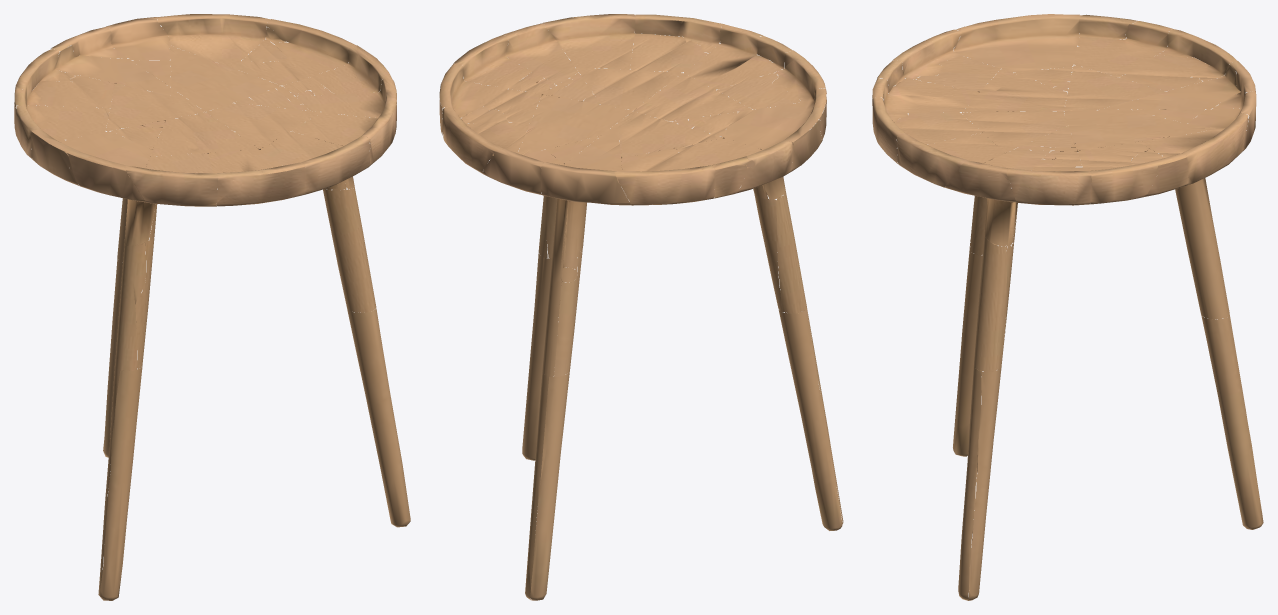
Rendered from side-table-tripo.glb.
3 views of the same model, side by side, from view 1: azimuth 30°, elevation 25°; view 2: azimuth 150°, elevation 25°; view 3: azimuth 270°, elevation 25° (orthographic).
Parts seen in each view (by area): view 1: tripo_node_9cdcf5a6-7153-448c-8094-f44bb5ee8d84; view 2: tripo_node_9cdcf5a6-7153-448c-8094-f44bb5ee8d84; view 3: tripo_node_9cdcf5a6-7153-448c-8094-f44bb5ee8d84.
Part boxes in pixels (x1,y1,x2,y2): tripo_node_9cdcf5a6-7153-448c-8094-f44bb5ee8d84: (14,14,410,600); tripo_node_9cdcf5a6-7153-448c-8094-f44bb5ee8d84: (439,14,843,600); tripo_node_9cdcf5a6-7153-448c-8094-f44bb5ee8d84: (872,14,1263,600).
Bounding box in the file's own units: 0.8055 × 1 × 0.8173.
1 material, 1 textured.
